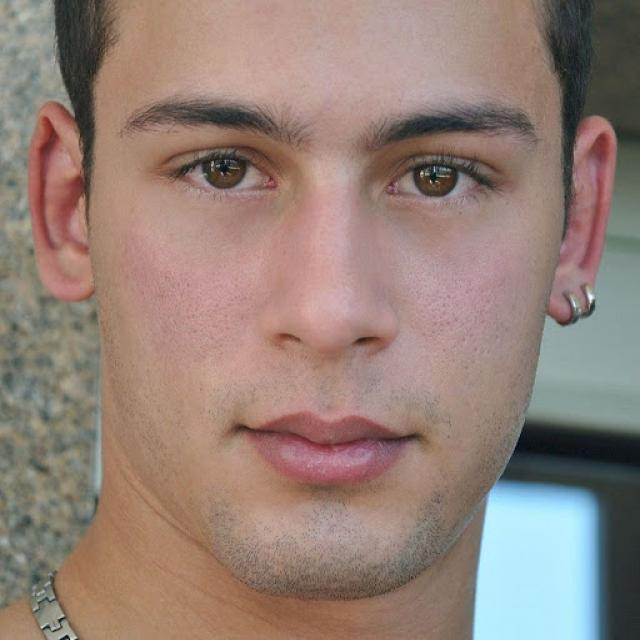front: (87, 15, 534, 576)
